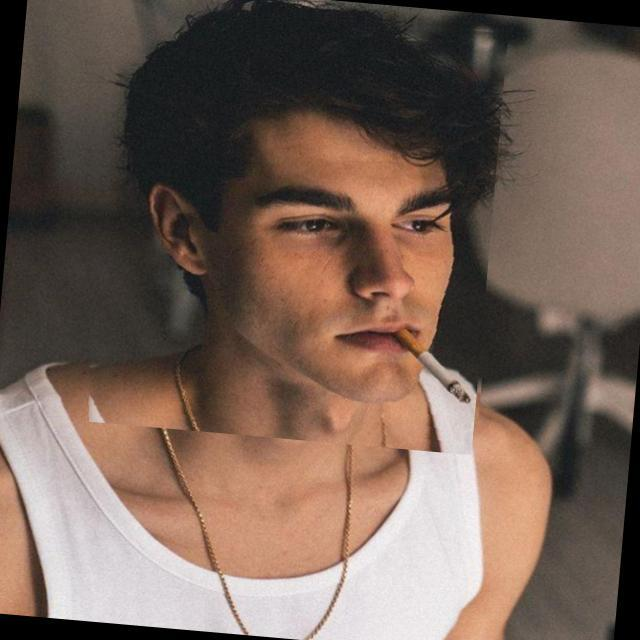cigarette: (339, 282, 489, 426)
